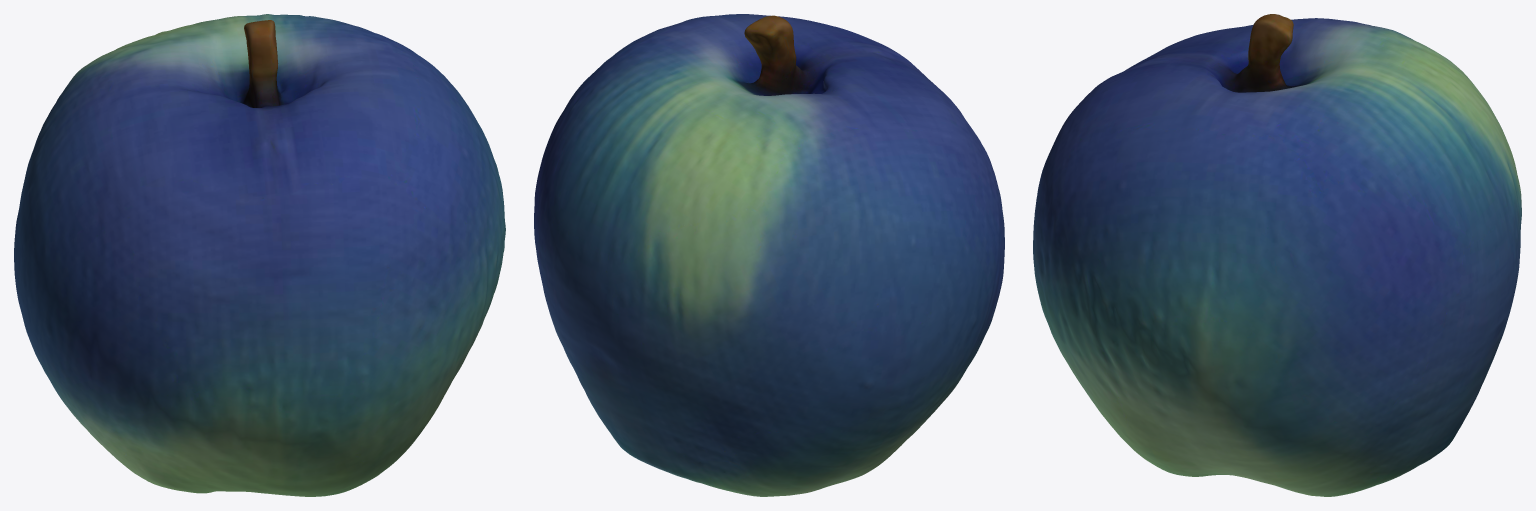
Rendered from apple.fbx.
3 renders of one model, left to right at view 1: azimuth 30°, elevation 25°; view 2: azimuth 150°, elevation 25°; view 3: azimuth 270°, elevation 25°, orthographic. The views are drawn at different scales.
Parts seen in each view (by area): view 1: high_poly; view 2: high_poly; view 3: high_poly.
Part boxes in pixels (x1,y1,x2,y2): high_poly: [14, 14, 505, 496]; high_poly: [534, 14, 1004, 496]; high_poly: [1033, 14, 1521, 496].
Bounding box in the file's own units: 100 × 101 × 99.66.
